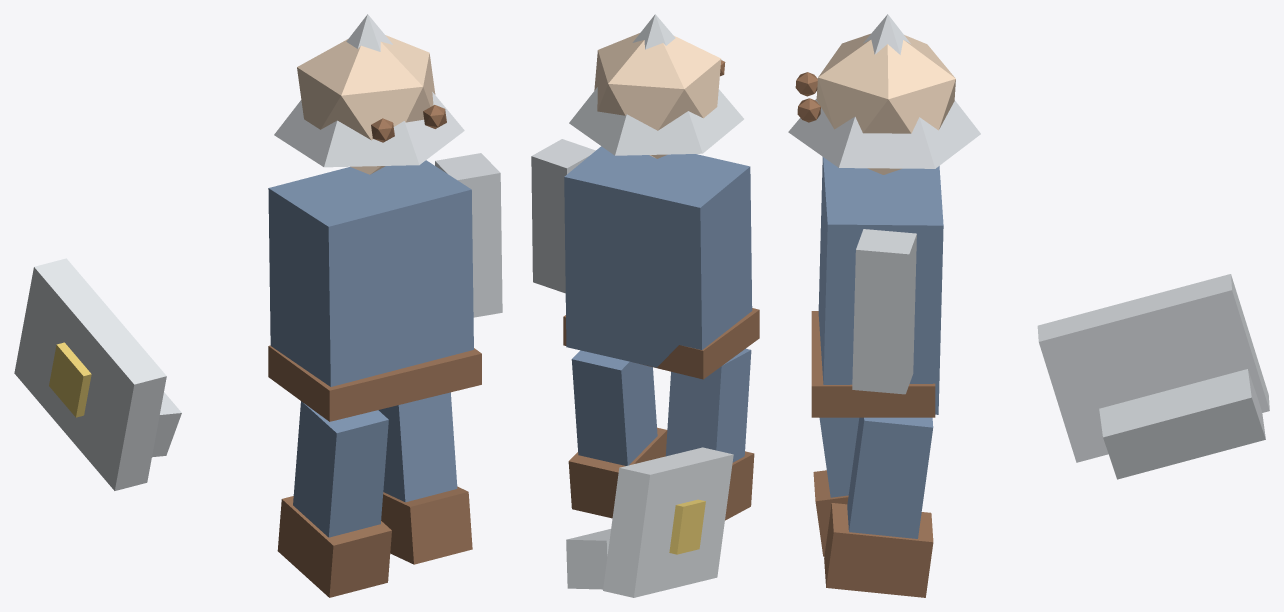
The model's file is npcpose_guard_attack_11.glb.
The picture shows the model from 3 angles, left to right: view 1: azimuth 30°, elevation 25°; view 2: azimuth 150°, elevation 25°; view 3: azimuth 270°, elevation 25°; orthographic projection. The views are drawn at different scales.
Visible parts, largest first — view 1: npcpose; view 2: npcpose; view 3: npcpose.
Boxes of the visible parts, x1,y1,x2,y2 form: npcpose: [14, 14, 502, 597]; npcpose: [531, 14, 759, 597]; npcpose: [788, 14, 1269, 597].
Bounding box in the file's own units: 0.8926 × 1.57 × 1.25.
